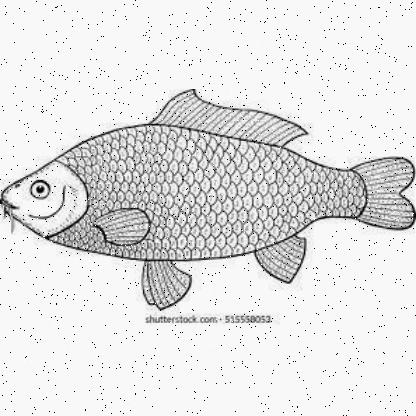ikan-mas: (0, 103, 414, 297)
